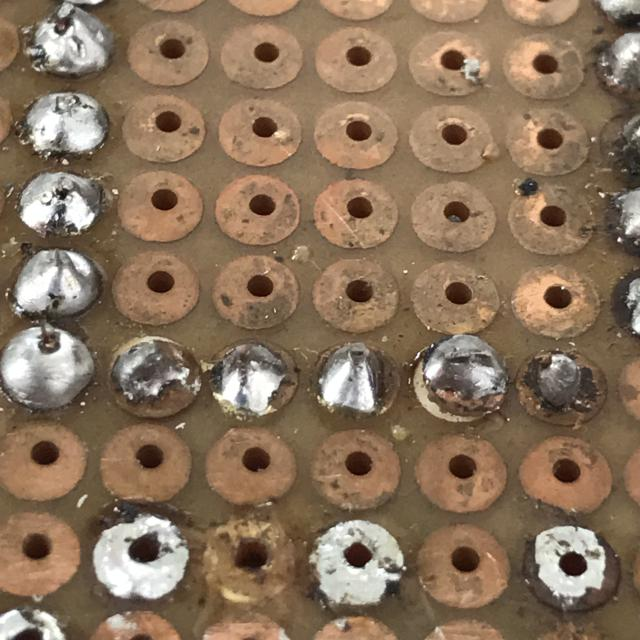hole: (0, 315, 101, 423), (16, 0, 125, 87), (9, 160, 114, 246)
pad_less: (98, 326, 210, 428), (404, 328, 515, 430), (506, 337, 620, 436), (198, 328, 308, 430), (307, 335, 405, 424)
